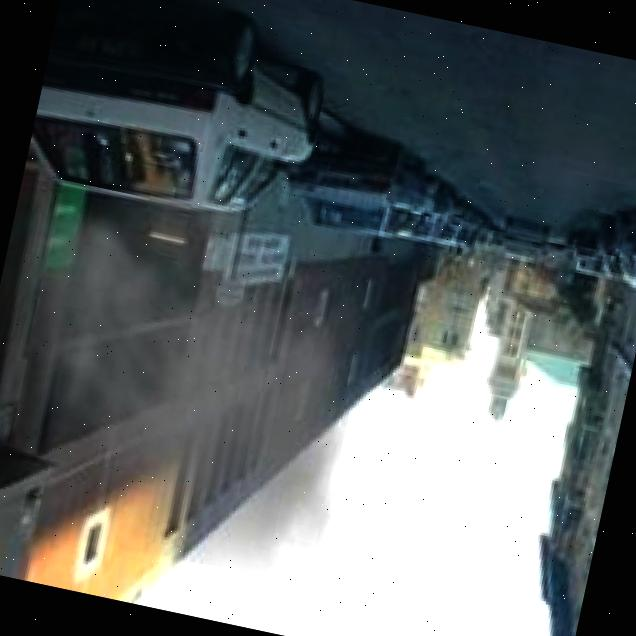smoke: (0, 125, 401, 589)
